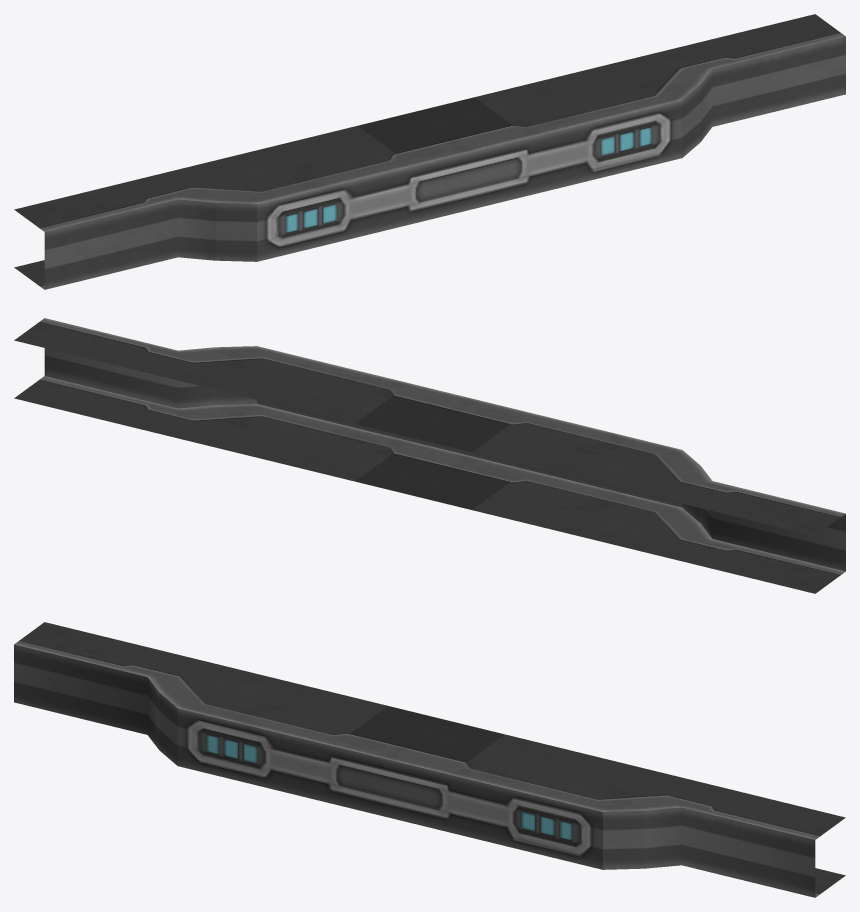
The model's file is doodad_skyscraperpart_plate.fbx.
3 views of the same model, one above another, from view 1: azimuth 30°, elevation 25°; view 2: azimuth 150°, elevation 25°; view 3: azimuth 330°, elevation 25° (orthographic).
Visible parts, largest first — view 1: pCube4; view 2: pCube4; view 3: pCube4.
Boxes of the visible parts, x1=… form: pCube4: x1=14, y1=14, x2=845, y2=289; pCube4: x1=14, y1=318, x2=845, y2=593; pCube4: x1=14, y1=622, x2=845, y2=897.
Bounding box in the file's own units: 11.35 × 0.7835 × 1.35.
Materials: 1 (1 with a texture image).
